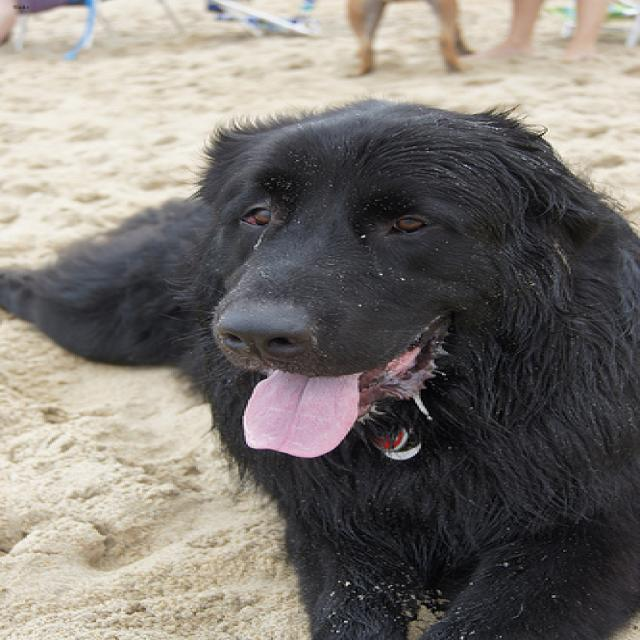dog-newfoundland: (2, 90, 636, 637)
